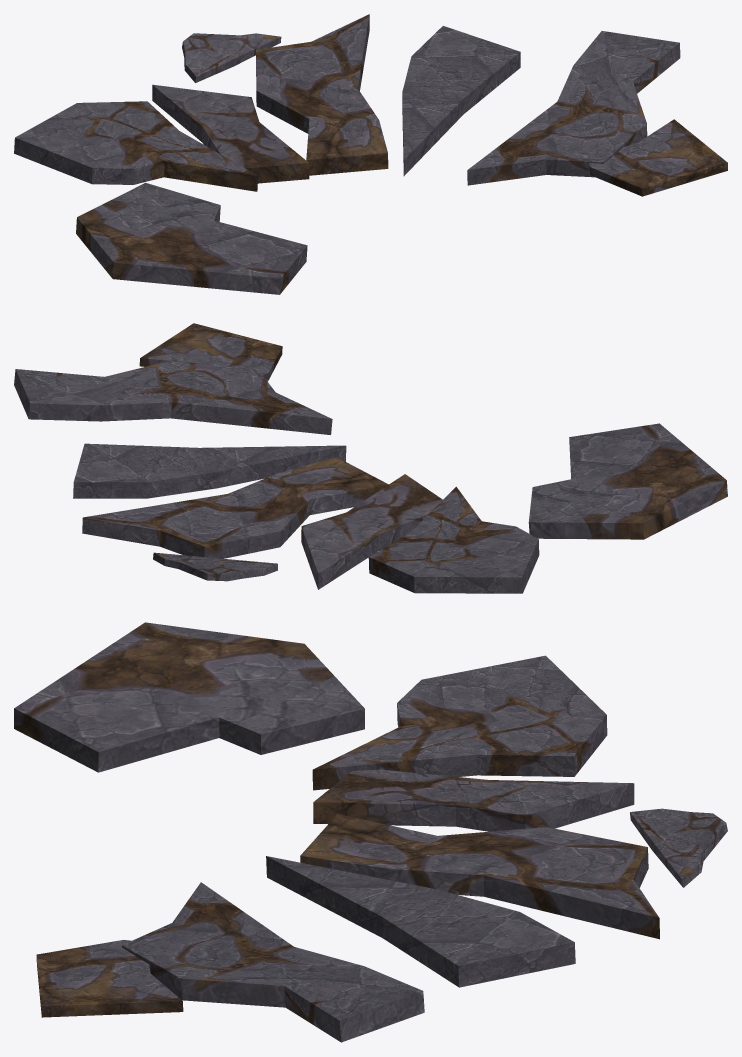
File: BOSS_Stone_02.FBX
3 views of the same model, one above another, from view 1: azimuth 30°, elevation 25°; view 2: azimuth 150°, elevation 25°; view 3: azimuth 270°, elevation 25° (orthographic). The views are drawn at different scales.
Parts seen in each view (by area): view 1: BOSS_Stone_02; view 2: BOSS_Stone_02; view 3: BOSS_Stone_02.
Part boxes in pixels (box(x1,y1,x2,y2)): BOSS_Stone_02: box(14, 14, 727, 294); BOSS_Stone_02: box(14, 323, 727, 593); BOSS_Stone_02: box(14, 622, 727, 1042).
Size of the model in its own units: 16.77 by 1.04 by 12.27.
